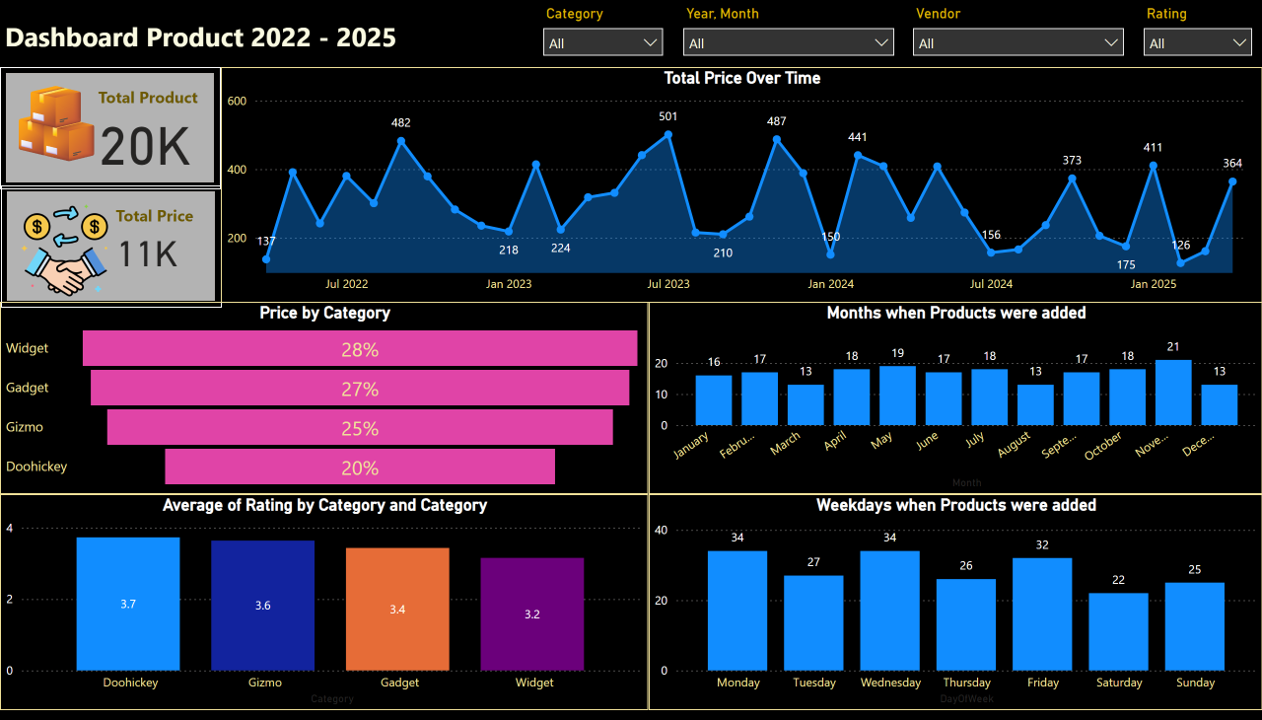

Layout of this report page (visuals, bound fields, positions):
{"tool":"powerbi","page":{"name":"Page 1","canvas":[1280,720],"ordinal":0},"visuals":[{"type":"cardVisual","fields":{"Data":["product_db.Total Product"]},"box":[0,67.5,223.8,123.8],"z":0},{"type":"cardVisual","fields":{"Data":["Sum(product_db.Price)"]},"box":[1.2,187.5,223.8,123.8],"z":1000},{"type":"lineChart","title":"Total Price Over Time","fields":{"Category":["product_db.Created At.Variation.Date Hierarchy.Year","product_db.Created At.Variation.Date Hierarchy.Month"],"Y":["Sum(product_db.Price)"]},"box":[223.8,67.5,1056.2,238.8],"z":2000},{"type":"columnChart","title":"Weekdays when Products were added","fields":{"Y":["CountNonNull(product_db.ID)"],"Category":["product_db.DayOfWeek"]},"box":[657.5,501.2,622.5,218.8],"z":3000},{"type":"columnChart","title":"Months when Products were added","fields":{"Y":["CountNonNull(product_db.ID)"],"Category":["product_db.Created At.Variation.Date Hierarchy.Month"]},"box":[657.5,306.2,622.5,195],"z":4000},{"type":"funnel","title":"Price by Category","fields":{"Category":["product_db.Category"],"Y":["Sum(product_db.Price)"]},"box":[0,306.2,657.5,195],"z":5000},{"type":"columnChart","fields":{"Category":["product_db.Category"],"Y":["Avg(product_db.Rating)"],"Series":["product_db.Category"]},"box":[0,501.2,657.5,218.8],"z":6000},{"type":"textbox","box":[0,12.5,448.8,55],"z":7000},{"type":"slicer","fields":{"Values":["product_db.Category"]},"box":[541.2,0,141.2,67.5],"z":7001},{"type":"slicer","fields":{"Values":["product_db.Created At.Variation.Date Hierarchy.Year","product_db.Created At.Variation.Date Hierarchy.Month"]},"box":[682.5,0,233.8,67.5],"z":7002},{"type":"slicer","fields":{"Values":["product_db.Vendor"]},"box":[916.2,0,233.8,67.5],"z":7003},{"type":"slicer","fields":{"Values":["product_db.Rating"]},"box":[1150,0,130,67.5],"z":7004}]}

Visuals, with their boxes in screenshot pixels (x1, y1, x2, y2), scaled from the page's 1280x720 canvas onto the 1262x720 screenshot:
cardVisual - product_db.Total Product: box=[0, 68, 221, 191]
cardVisual - Sum(product_db.Price): box=[1, 188, 222, 311]
"Total Price Over Time" lineChart: box=[221, 68, 1261, 306]
"Weekdays when Products were added" columnChart: box=[648, 501, 1261, 719]
"Months when Products were added" columnChart: box=[648, 306, 1261, 501]
"Price by Category" funnel: box=[0, 306, 648, 501]
columnChart - product_db.Category x Avg(product_db.Rating): box=[0, 501, 648, 719]
textbox: box=[0, 12, 442, 68]
slicer - product_db.Category: box=[534, 0, 673, 68]
slicer - product_db.Created At.Variation.Date Hierarchy.Year x product_db.Created At.Variation.Date Hierarchy.Month: box=[673, 0, 903, 68]
slicer - product_db.Vendor: box=[903, 0, 1134, 68]
slicer - product_db.Rating: box=[1134, 0, 1261, 68]
